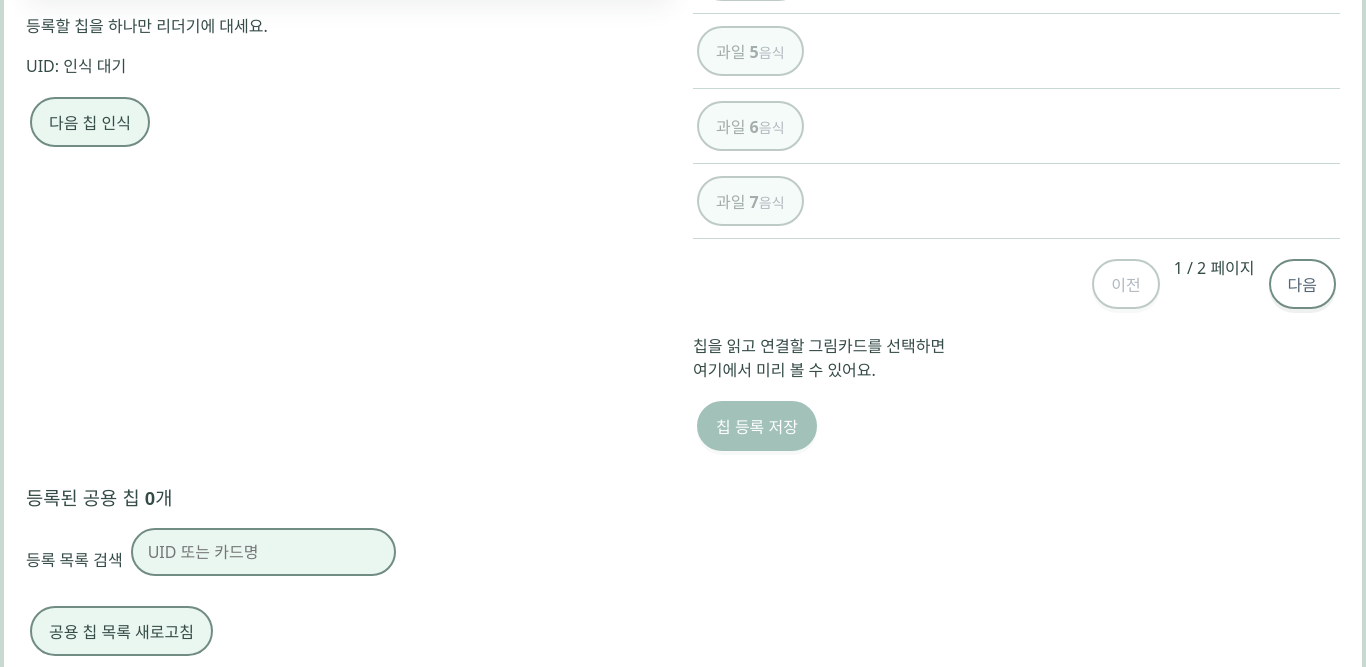
searches public card names and categories without a long dropdown
(page scrolled)
Expected: the button "물" is not shown
Click the button "다음": (1302,284) [1268,259,1336,309]
(page scrolled)
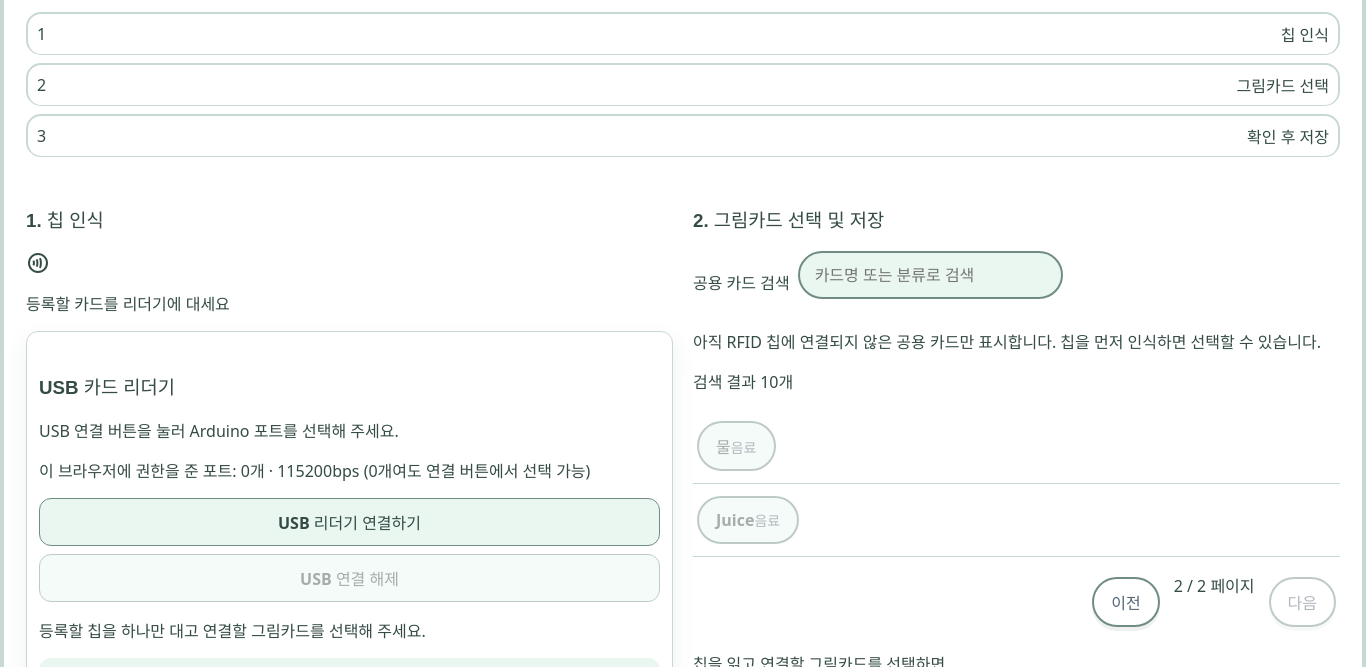
Result: the button "물" is disabled at [697,421,776,471]
In the search field labelled "공용 카드 검색": (930,275) [798,251,1063,299], type " 음료 JUICE "
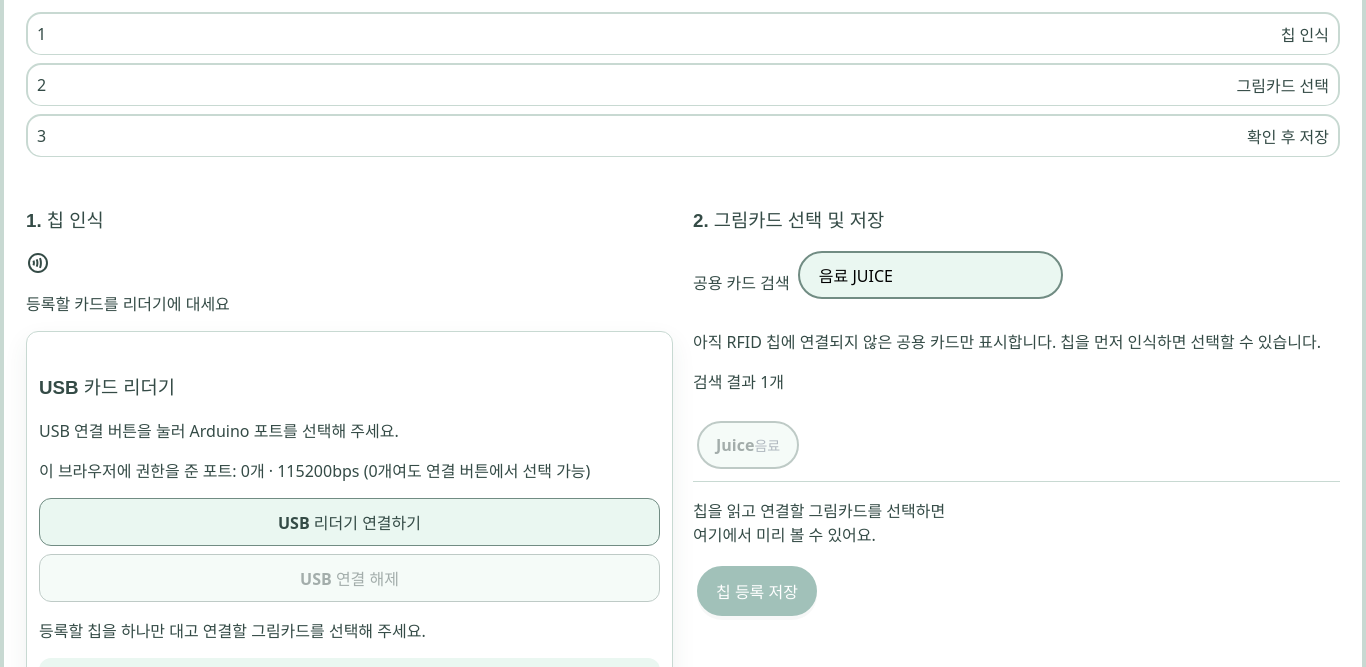
Result: the button "Juice" is shown at [697,421,799,469]
Replace the text in the search field with "없는카드": (930,275) [798,251,1063,299]
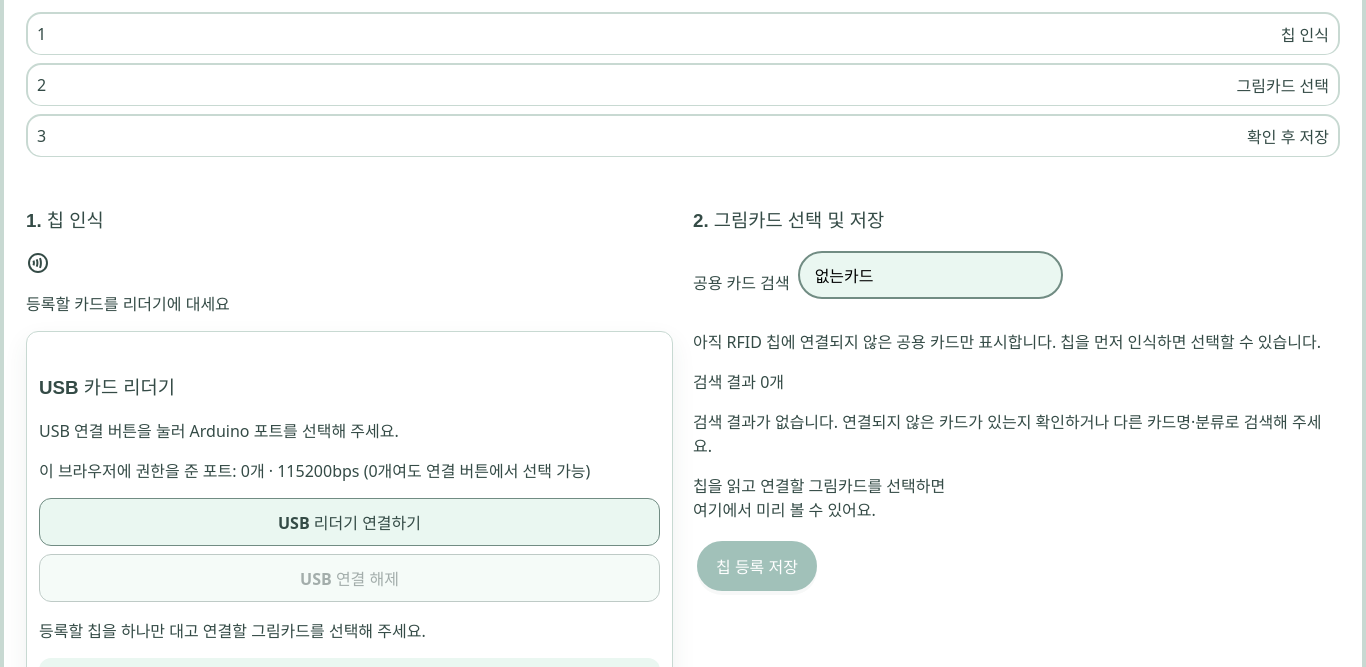
Result: the text "검색 결과가 없습니다. 연결되지 않은 카드가 있는지 확인하거나 다른 카드명·분류로 검색해 주세요." is shown at [693,409,1340,457]
